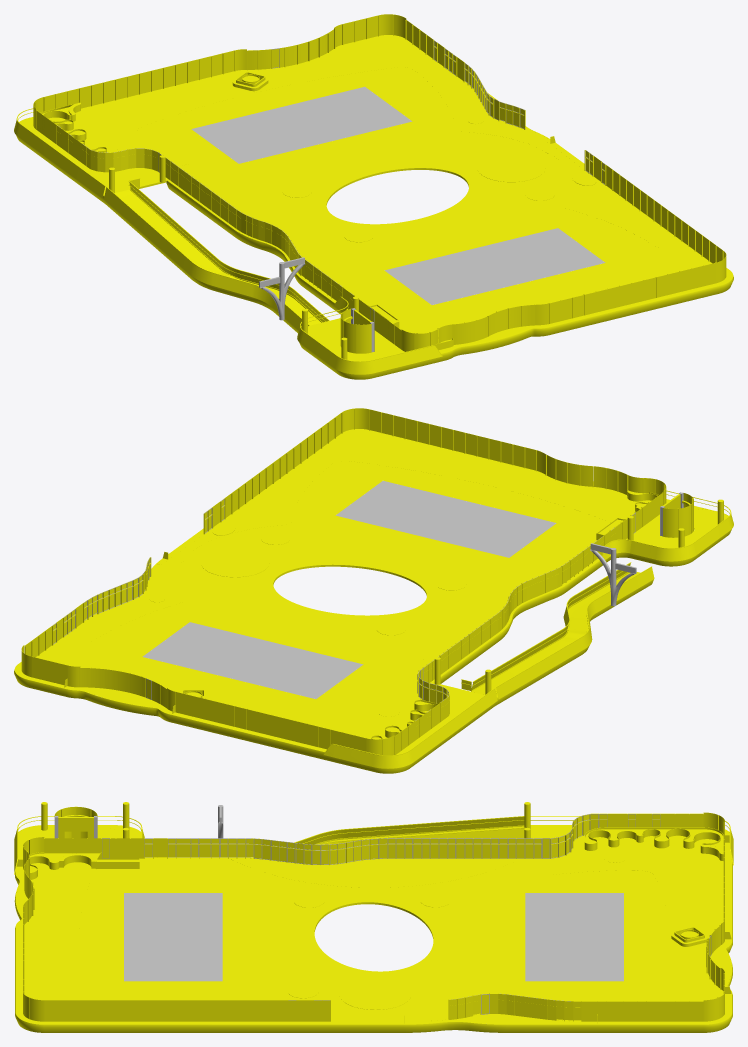
Rendered from sm_hana_building_6f_out.glb.
3 views of the same model, one above another, from view 1: azimuth 30°, elevation 25°; view 2: azimuth 150°, elevation 25°; view 3: azimuth 270°, elevation 25° (orthographic). The views are drawn at different scales.
Parts seen in each view (by area): view 1: sm_hana_building_6f_out; view 2: sm_hana_building_6f_out; view 3: sm_hana_building_6f_out.
Part boxes in pixels (x1,y1,x2,y2): sm_hana_building_6f_out: (14, 14, 733, 379); sm_hana_building_6f_out: (14, 408, 733, 773); sm_hana_building_6f_out: (14, 802, 733, 1032).
Bounding box in the file's own units: 66.18 × 11.14 × 100.
Materials: 13 (10 with a texture image).
